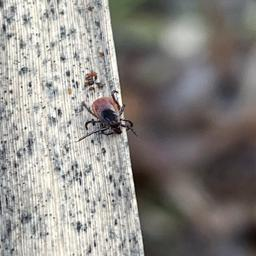Ixodes scapularis: (78, 93, 138, 142)
